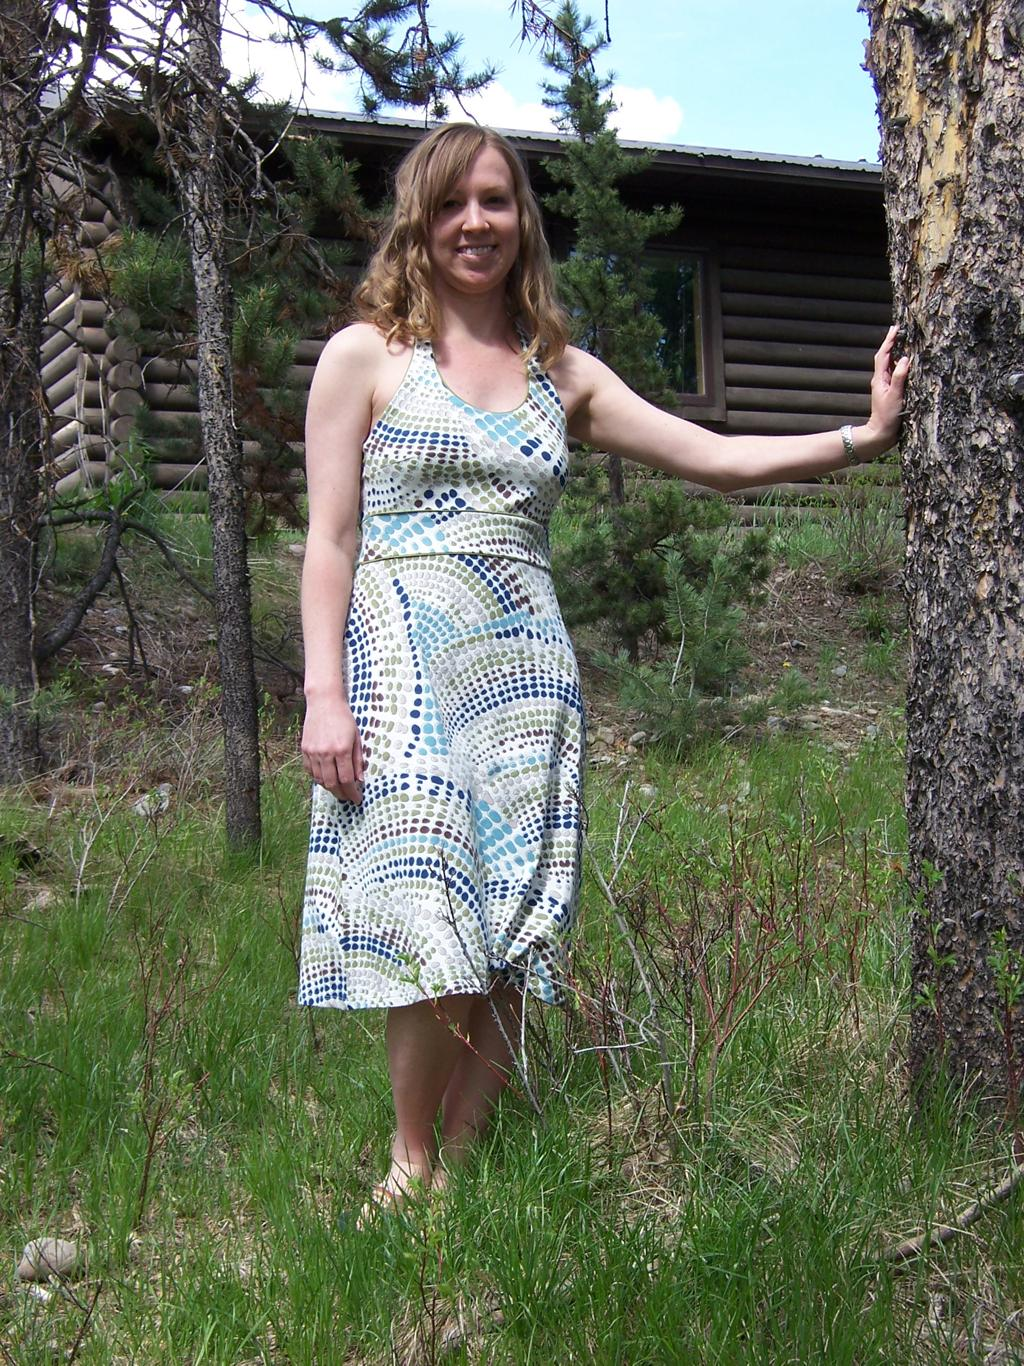face: (419, 141, 523, 282)
